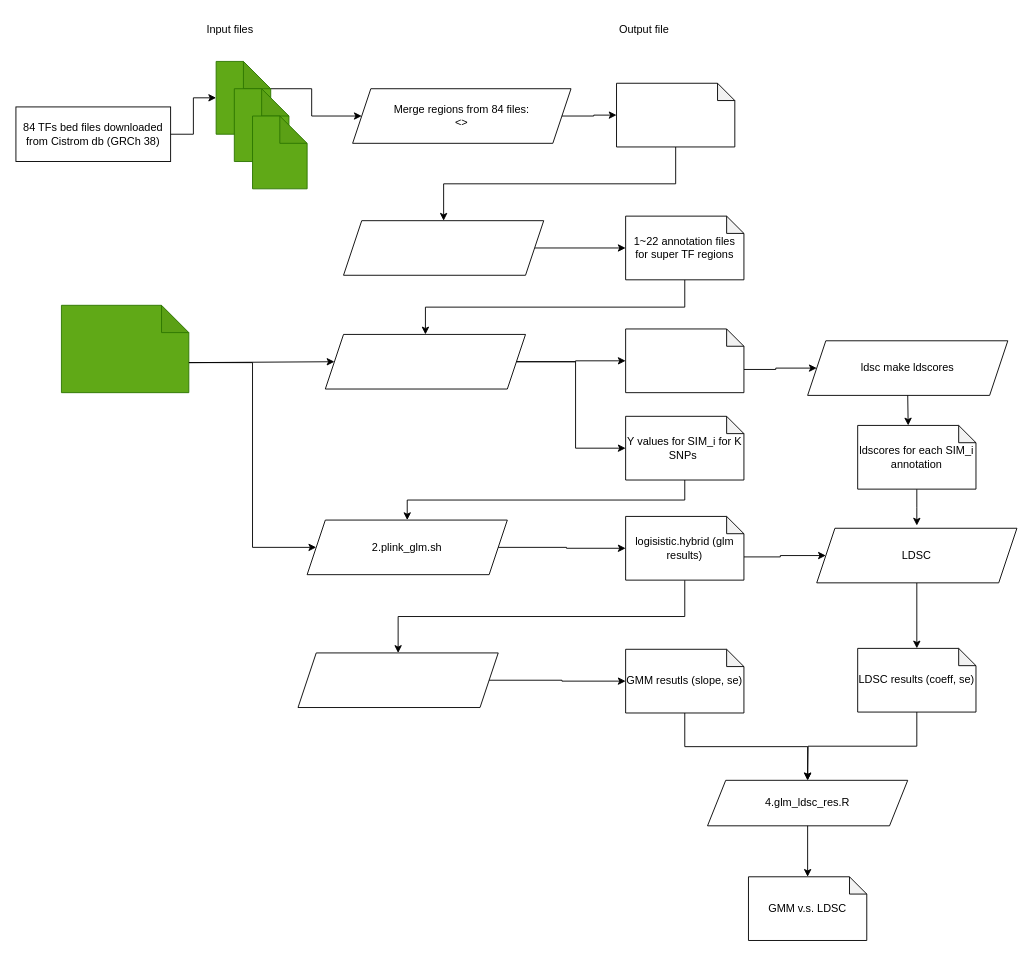
Image size: 1033x956. Some labels were removed from this diagram. Here are the shapes that lost their labels. From the top down, the centre of each, then its label:
the point at 675,114: merged_all.sorted.bed
the point at 443,247: ldsc make annots
the point at 125,348: 1000G, EUR, 489 samples, genotype
the point at 425,361: 1.simulate_Yvalues_basedonGeno.R
the point at 684,360: annotation for each SIM_i for K SNPs
the point at 397,680: 3.glm_association.R
